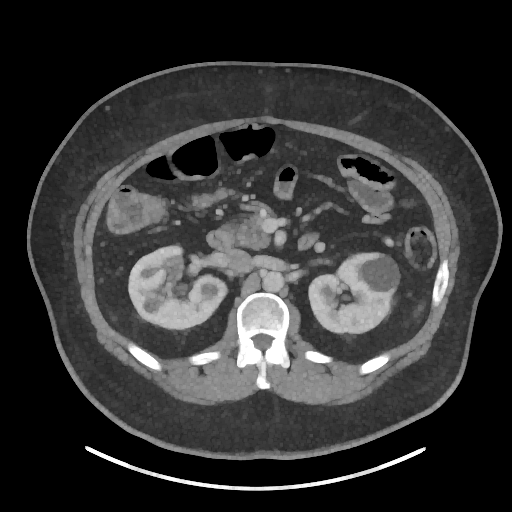Lesion: (355, 248, 403, 295)
